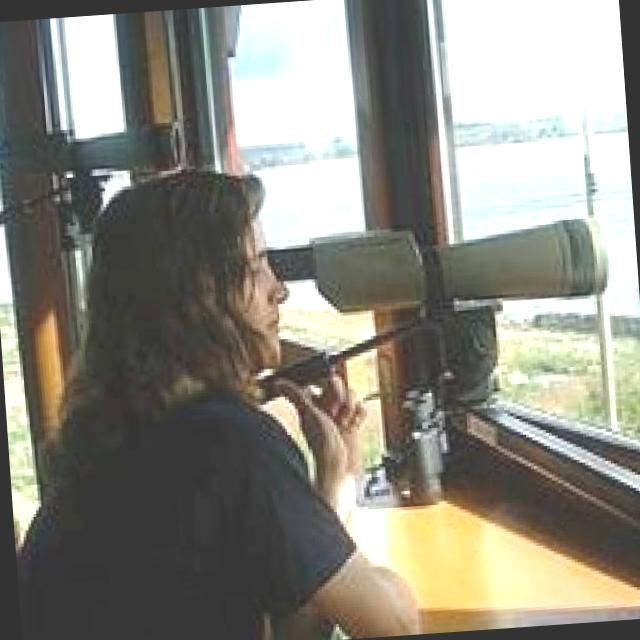no_vest: (15, 366, 328, 640)
